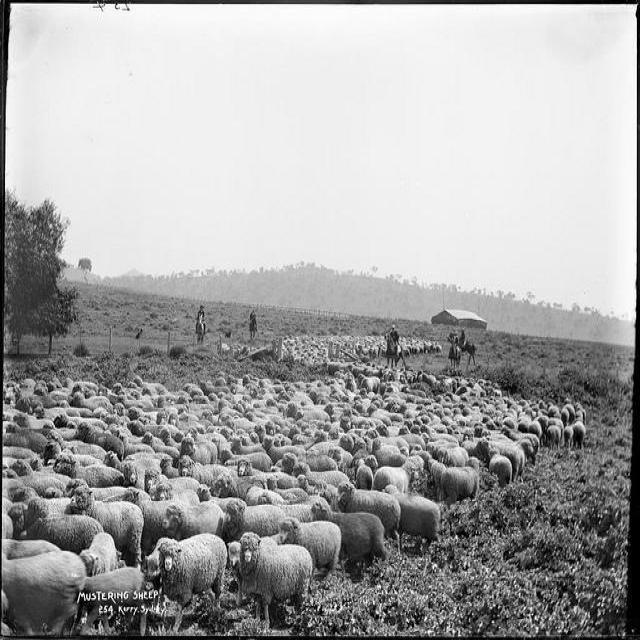Sheep: (0, 322, 594, 628), (158, 534, 228, 635), (239, 532, 313, 626), (310, 498, 390, 584), (69, 485, 145, 569), (25, 496, 104, 554), (280, 520, 344, 582), (382, 485, 441, 551), (441, 456, 481, 512)
